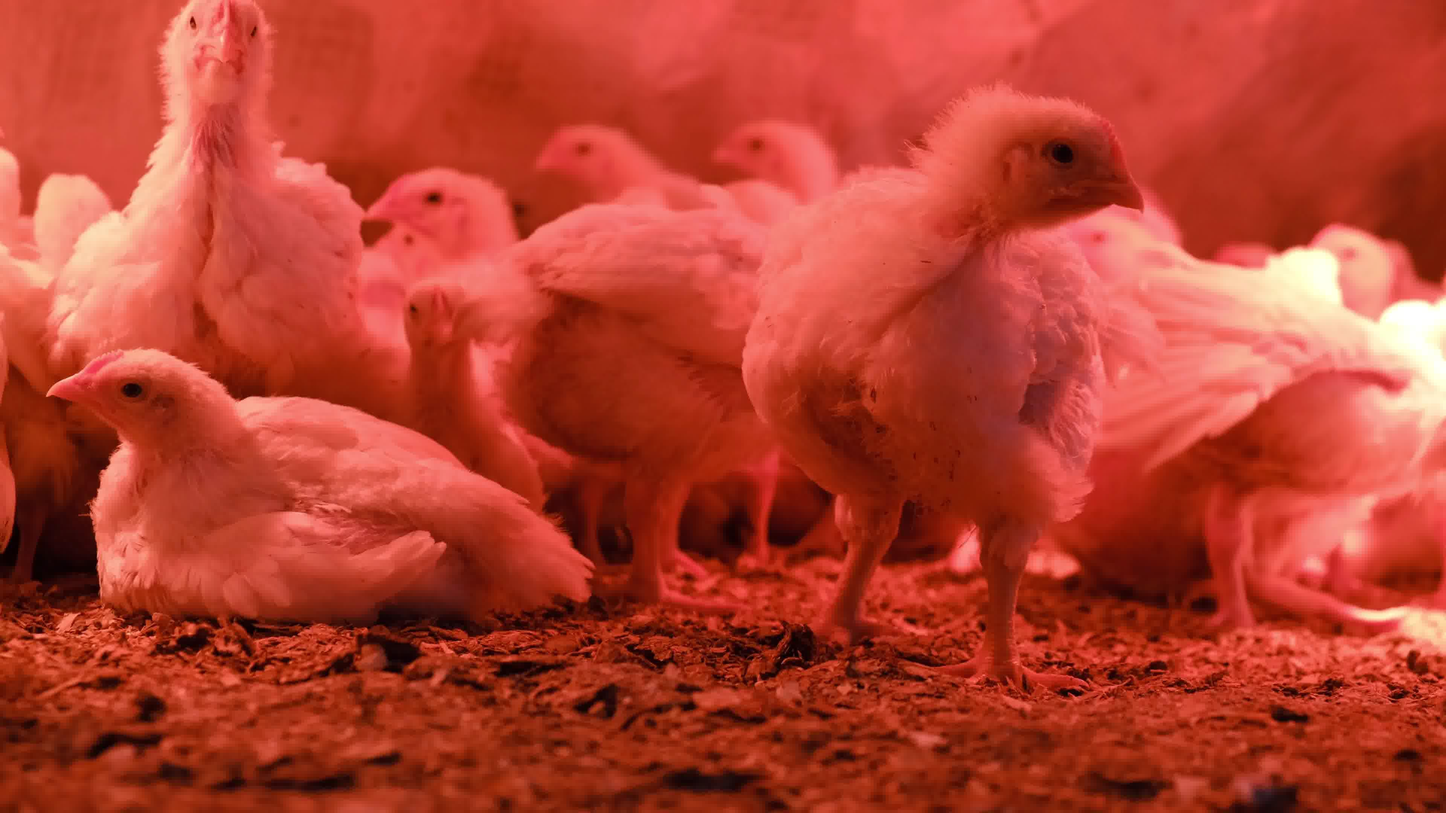AbNormal: (42, 333, 592, 615)
Normal: (739, 81, 1145, 694), (484, 194, 857, 627), (1078, 287, 1446, 646), (54, 0, 373, 398), (383, 279, 554, 503), (393, 164, 531, 279), (718, 113, 846, 214), (555, 115, 673, 223), (33, 170, 117, 292), (1316, 222, 1412, 319), (1045, 215, 1162, 294), (0, 143, 27, 246)
